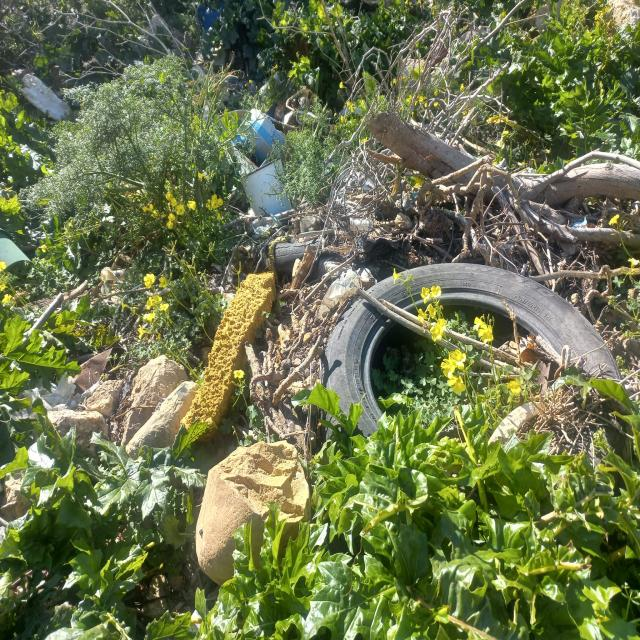Bottle: (349, 218, 372, 231)
Carton: (233, 108, 293, 169)
Other litter: (316, 261, 622, 447), (181, 272, 279, 442), (258, 72, 364, 132), (240, 156, 293, 215), (72, 346, 125, 396), (255, 243, 308, 269), (573, 216, 589, 227), (363, 177, 374, 190), (412, 191, 420, 197)
Other plastic: (16, 373, 101, 410), (16, 70, 70, 121), (317, 269, 362, 319), (197, 3, 226, 29), (253, 214, 282, 235), (101, 267, 129, 284)
